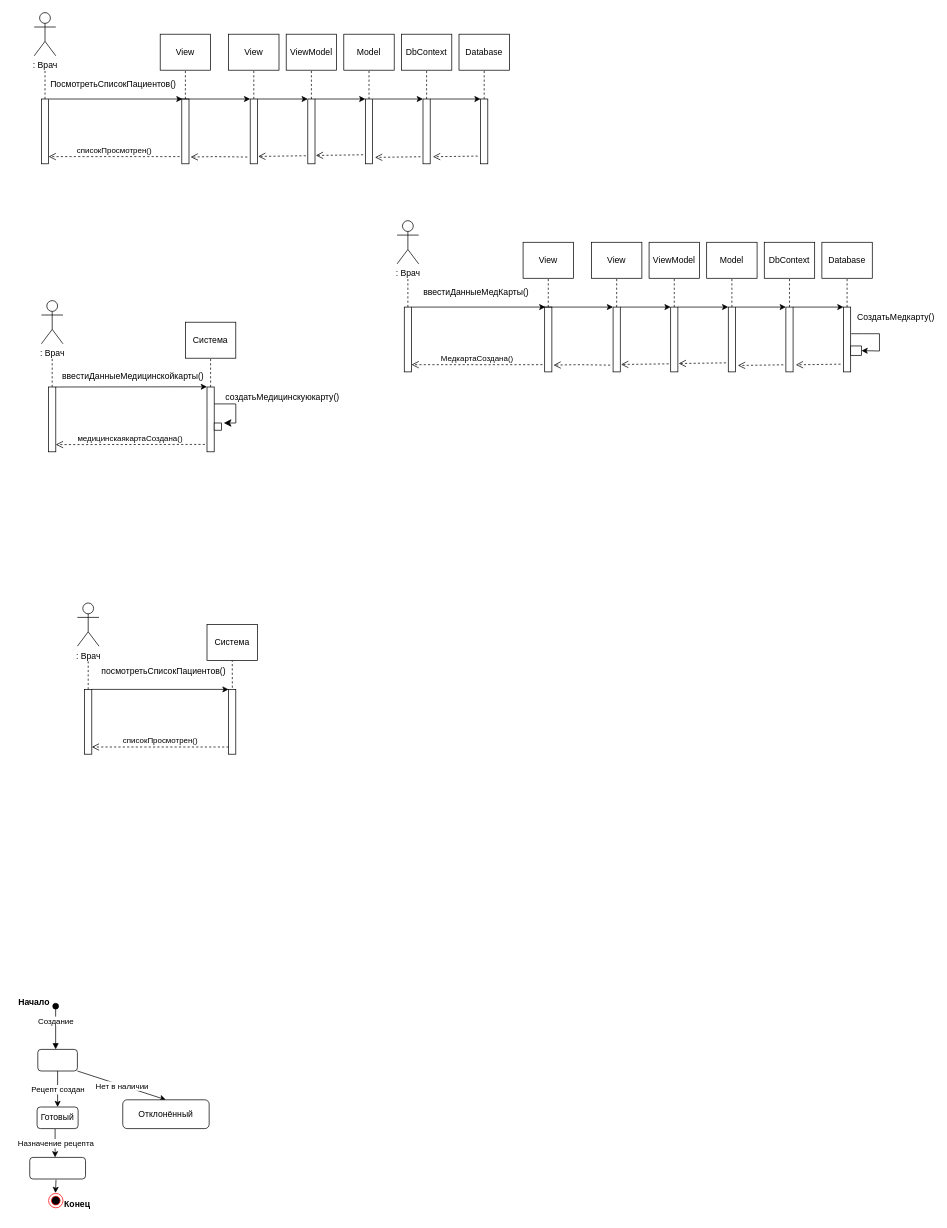
Image size: 947x1228. Some labels were removed from this diagram. Each missing label, with the box of its shape:
Назначенный: (29, 1157, 86, 1179)
Новый: (37, 1049, 77, 1071)
